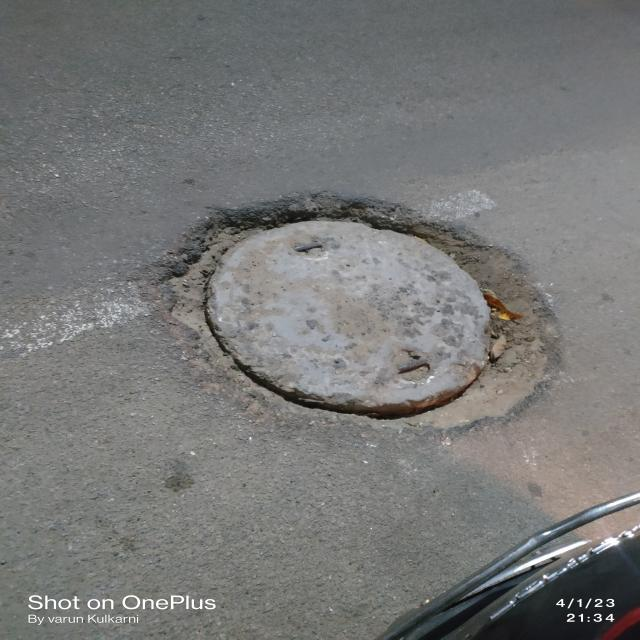manhole: (129, 195, 571, 452)
